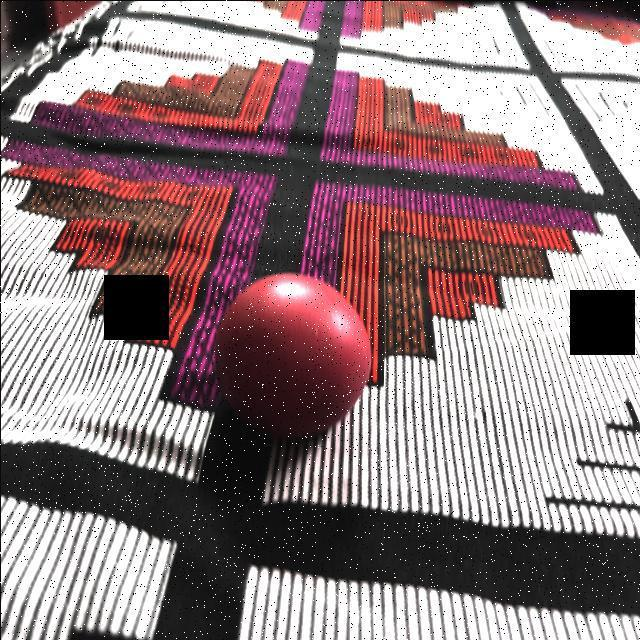egg: (210, 267, 373, 443)
